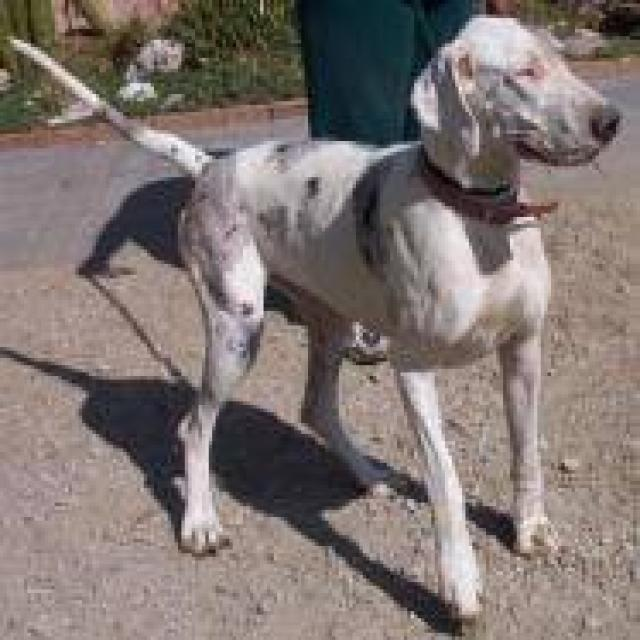dogs: (6, 4, 621, 634)
